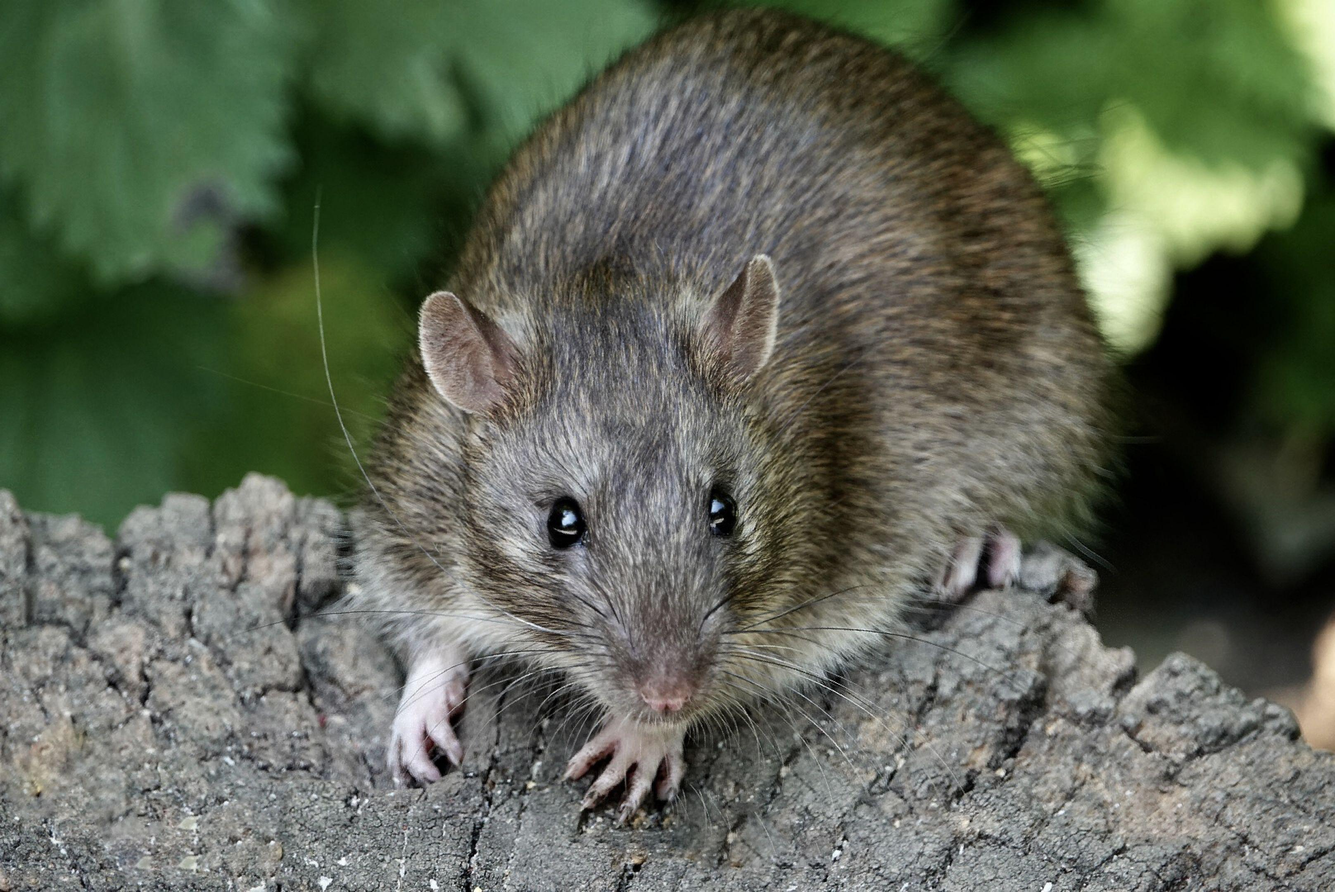rat: (350, 6, 1100, 834)
